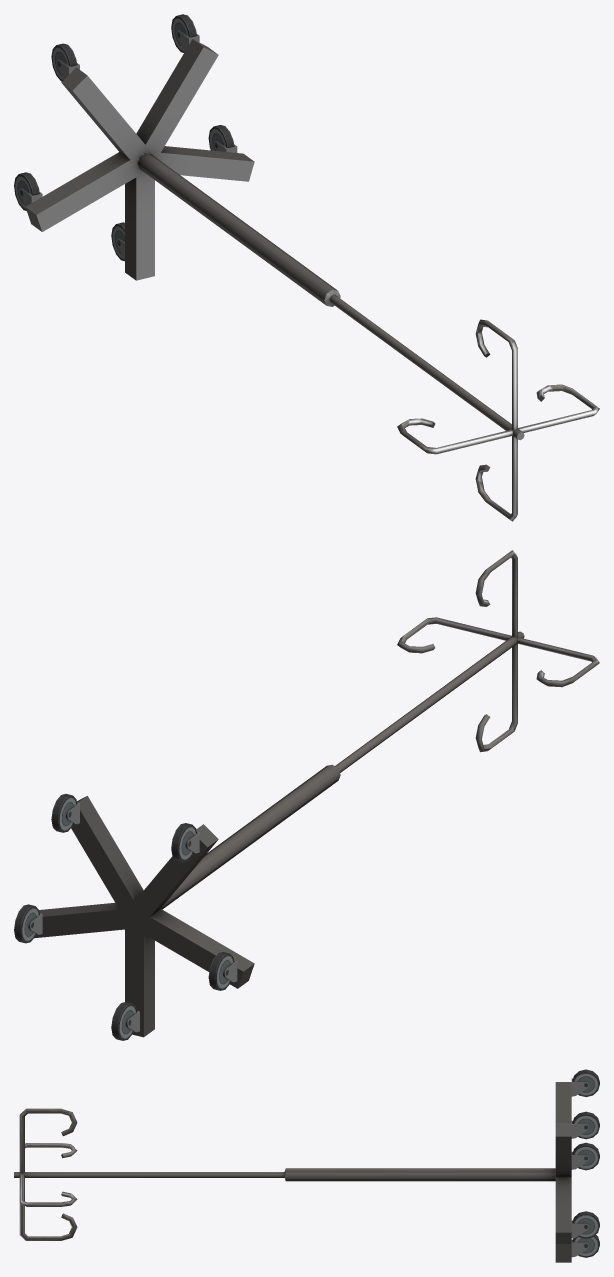
Rendered from IVStand.obj.
The picture shows the model from 3 angles, top to bottom: view 1: azimuth 30°, elevation 25°; view 2: azimuth 150°, elevation 25°; view 3: azimuth 270°, elevation 25°; orthographic projection. The views are drawn at different scales.
Parts seen in each view (by area): view 1: Object026; view 2: Object026; view 3: Object026.
Boxes of the visible parts, x1,y1,x2,y2 form: Object026: [14, 14, 599, 521]; Object026: [14, 550, 599, 1040]; Object026: [14, 1069, 599, 1262].
Size of the model in its own units: 53.66 by 54.54 by 173.
Materials: 2 (2 with a texture image).
